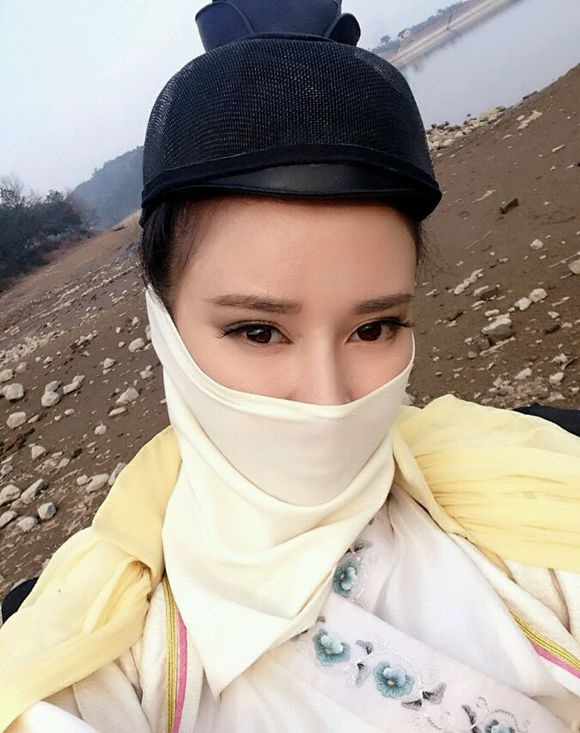face_mask: (170, 175, 416, 545)
